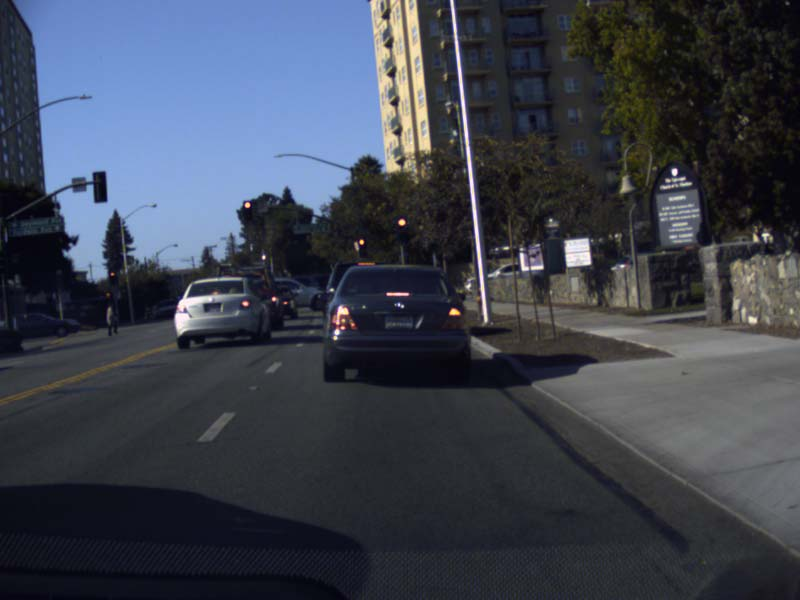Red: (396, 216, 407, 240), (357, 237, 366, 256), (242, 201, 251, 219), (108, 267, 116, 285)
